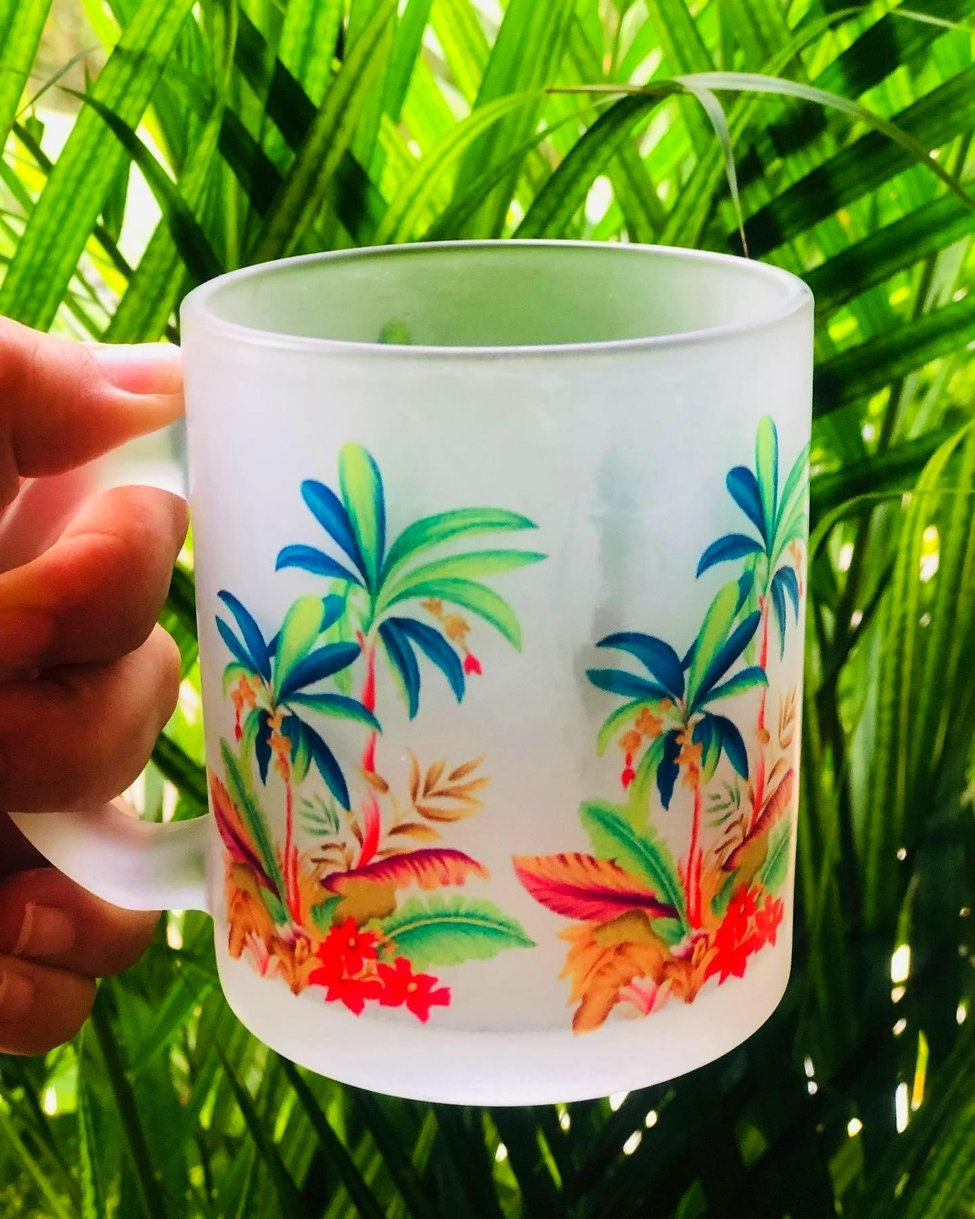glass-mug: (0, 217, 845, 1108)
